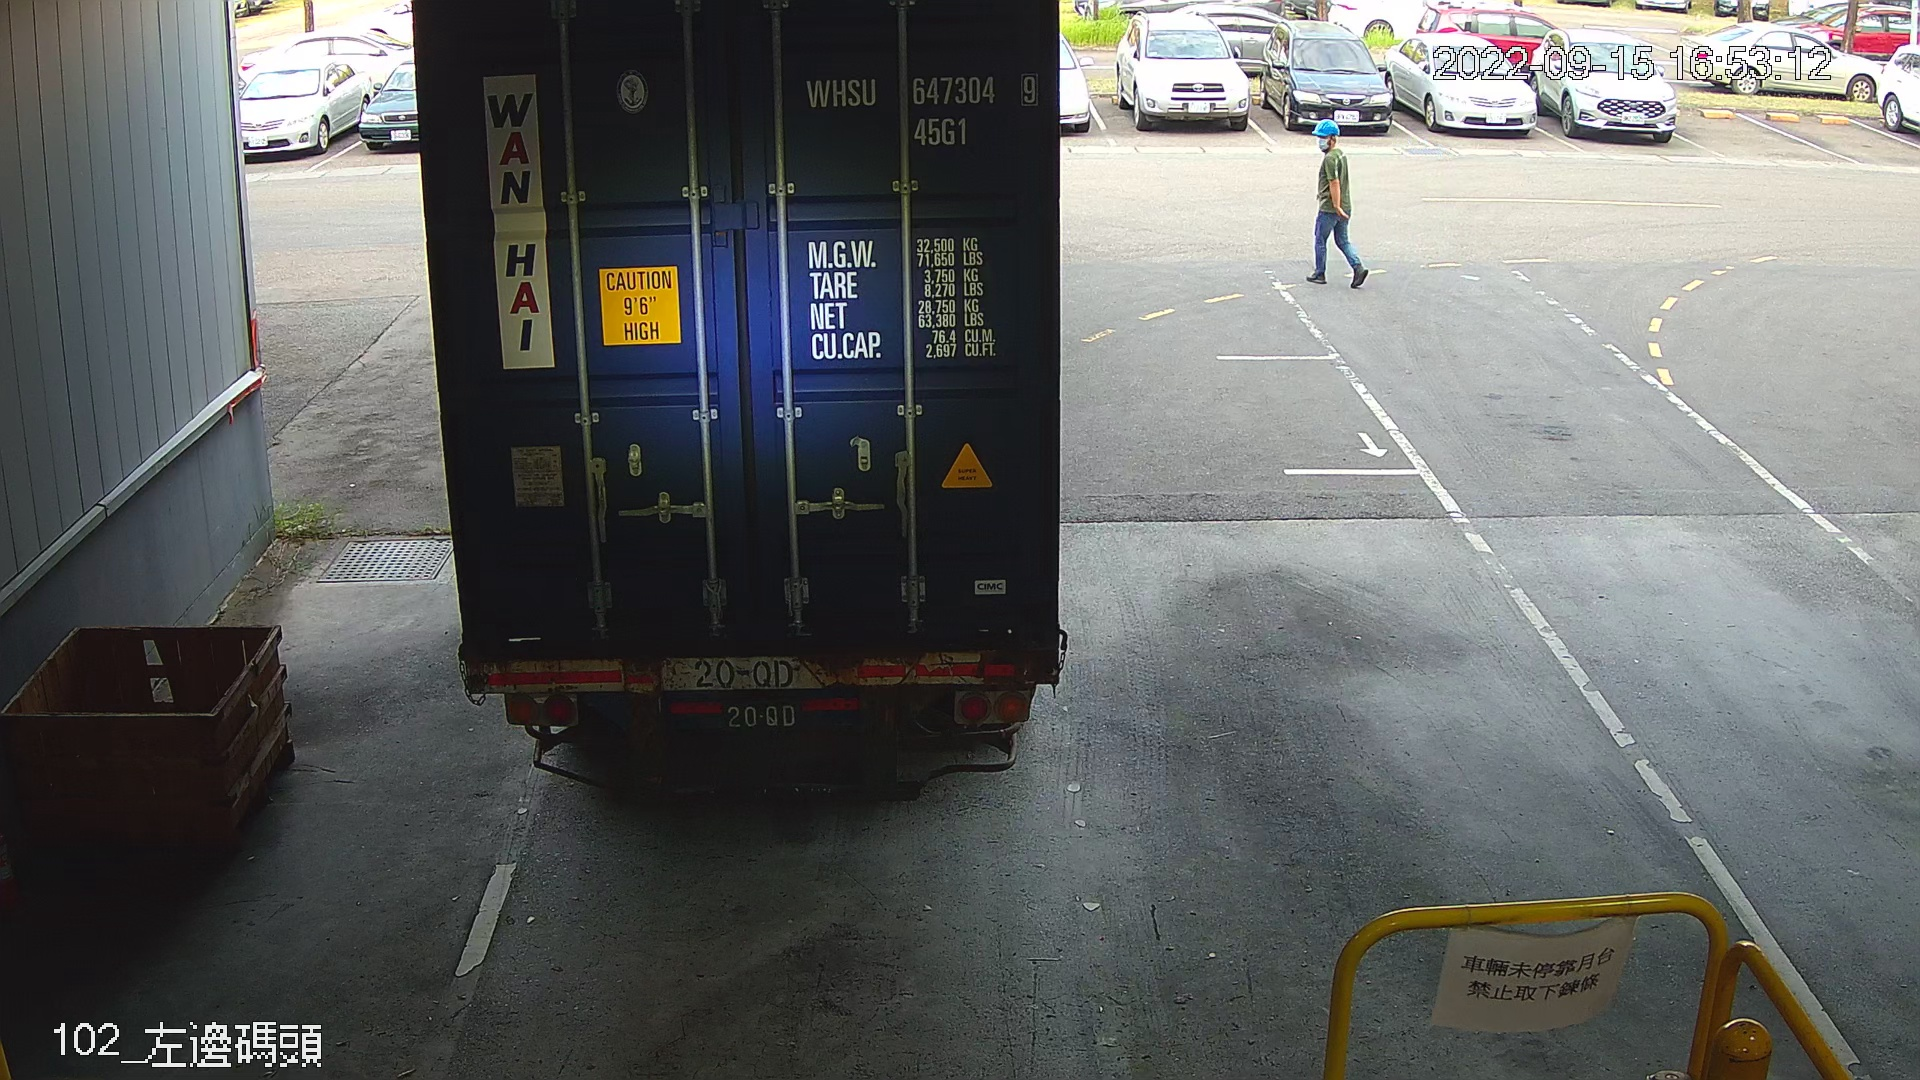container: (796, 65, 1048, 158)
